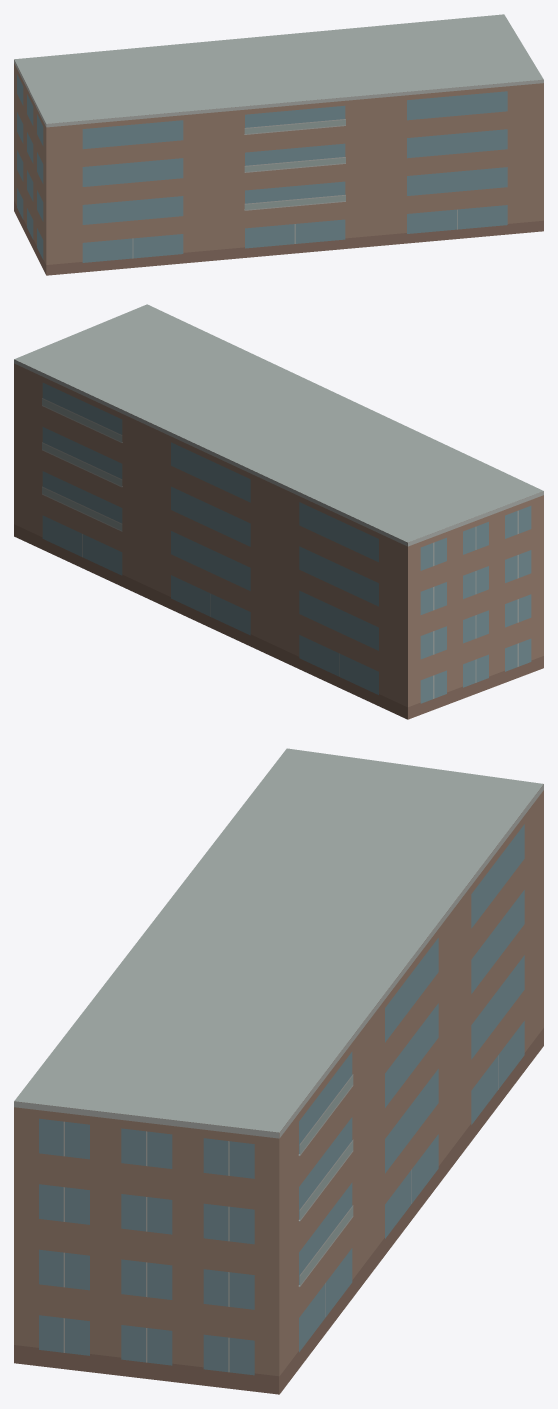
File: survey-upis-32945342.glb
The picture shows the model from 3 angles, top to bottom: view 1: azimuth 30°, elevation 25°; view 2: azimuth 150°, elevation 25°; view 3: azimuth 270°, elevation 25°; orthographic projection. The views are drawn at different scales.
Visible parts, largest first — view 1: survey-upis-32945342.tmp; view 2: survey-upis-32945342.tmp; view 3: survey-upis-32945342.tmp.
Part boxes in pixels (x1,y1,x2,y2): survey-upis-32945342.tmp: [14, 14, 543, 275]; survey-upis-32945342.tmp: [14, 304, 543, 719]; survey-upis-32945342.tmp: [14, 748, 543, 1394].
Bounding box in the file's own units: 33.35 × 10.6 × 19.44.
